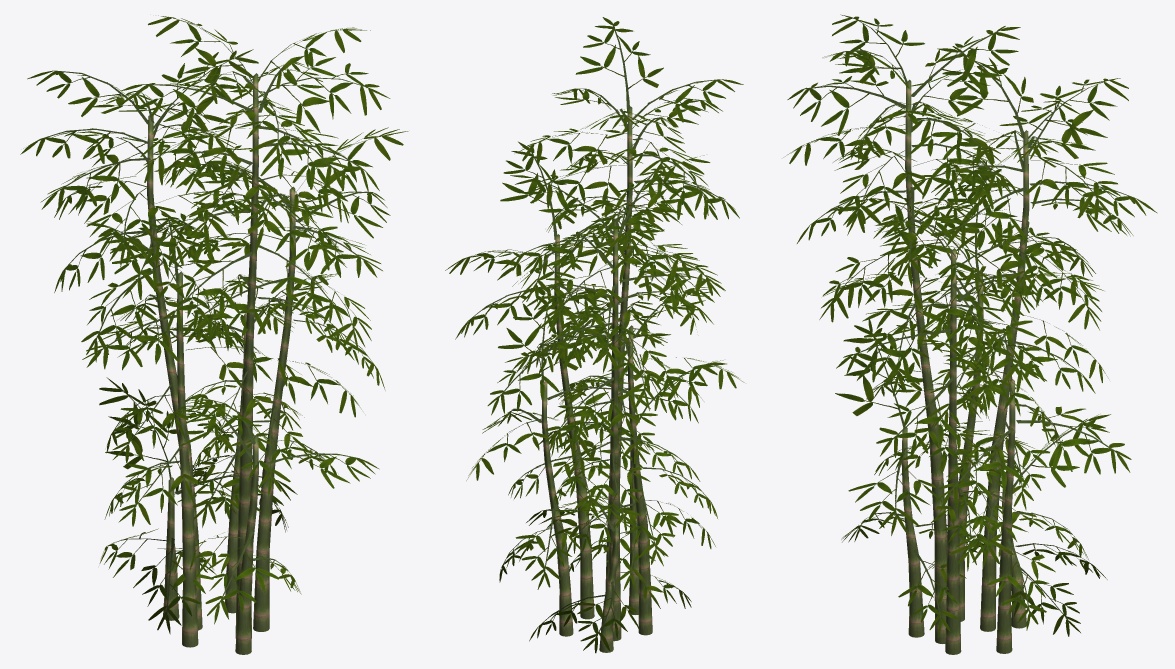
The model's file is bamboo.glb.
The picture shows the model from 3 angles, left to right: view 1: azimuth 30°, elevation 25°; view 2: azimuth 150°, elevation 25°; view 3: azimuth 270°, elevation 25°; orthographic projection. The views are drawn at different scales.
Parts seen in each view (by area): view 1: Tree_1_Tree_1Mat_0, Tree_0_Tree_0Mat_0; view 2: Tree_1_Tree_1Mat_0, Tree_0_Tree_0Mat_0; view 3: Tree_1_Tree_1Mat_0, Tree_0_Tree_0Mat_0.
Boxes of the visible parts, box(x1,y1,x2,y2) form: Tree_1_Tree_1Mat_0: box(20, 15, 408, 634); Tree_0_Tree_0Mat_0: box(147, 73, 295, 654); Tree_1_Tree_1Mat_0: box(445, 17, 744, 653); Tree_0_Tree_0Mat_0: box(541, 106, 652, 652); Tree_1_Tree_1Mat_0: box(783, 14, 1157, 637); Tree_0_Tree_0Mat_0: box(901, 79, 1029, 654).
Size of the model in its own units: 2.45 by 4.4 by 2.49.
2 materials, 2 textured.
